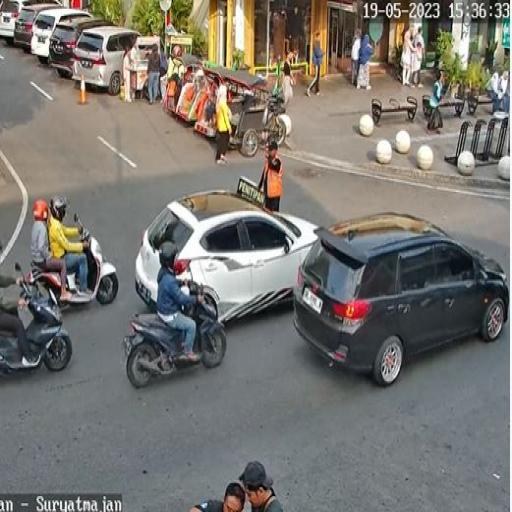mobil: (298, 218, 512, 374), (135, 200, 319, 317), (76, 25, 144, 90), (50, 15, 118, 78), (33, 6, 97, 69)
motor: (125, 270, 228, 392), (0, 267, 74, 400), (27, 216, 115, 324)
